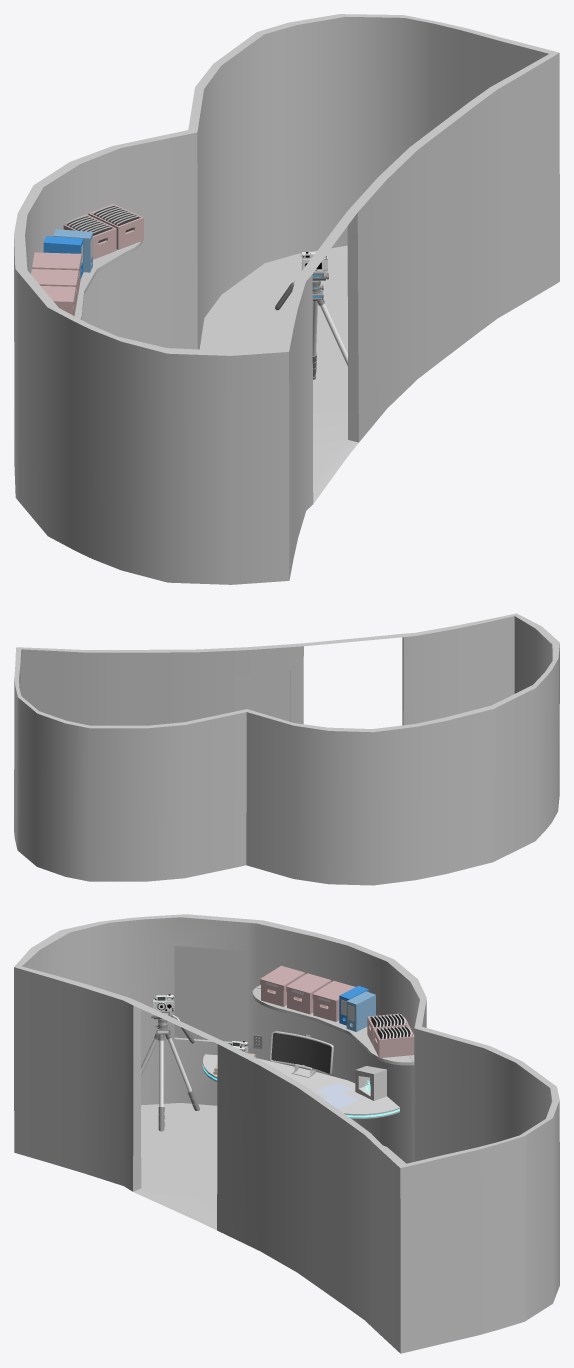
Rendered from labo_photo_assets.fbx.
The picture shows the model from 3 angles, top to bottom: view 1: azimuth 30°, elevation 25°; view 2: azimuth 150°, elevation 25°; view 3: azimuth 270°, elevation 25°; orthographic projection. The views are drawn at different scales.
Parts seen in each view (by area): view 1: labo_photo, boite_archive_couv.002, Ecran_Interaction.001, trepied, Ecran_Interaction.003, labo_photo.001, Cube.010; view 2: labo_photo, blue_print02; view 3: labo_photo, blue_print01, boite_archive_couv.002, labo_chimie.002, Ecran_Interaction, trepied.001, labo_photo.001, Ecran_Interaction.001, Cube.012, Cube.009, Ecran_Interaction.003.
Boxes of the visible parts, <box> form: labo_photo: <box>14,14,559,584</box>; boite_archive_couv.002: <box>31,252,81,315</box>; Ecran_Interaction.001: <box>88,203,143,249</box>; trepied: <box>275,272,347,379</box>; Ecran_Interaction.003: <box>63,214,116,259</box>; labo_photo.001: <box>74,241,142,319</box>; Cube.010: <box>43,236,83,278</box>; labo_photo: <box>14,613,559,885</box>; blue_print02: <box>235,674,285,720</box>; labo_photo: <box>14,914,559,1353</box>; blue_print01: <box>179,949,240,1035</box>; boite_archive_couv.002: <box>260,965,355,1021</box>; labo_chimie.002: <box>202,1054,399,1118</box>; Ecran_Interaction: <box>270,1031,333,1074</box>; trepied.001: <box>141,1011,199,1131</box>; labo_photo.001: <box>252,985,414,1065</box>; Ecran_Interaction.001: <box>373,1025,414,1057</box>; Cube.012: <box>355,1066,386,1100</box>; Cube.009: <box>346,991,375,1031</box>; Ecran_Interaction.003: <box>367,1013,408,1045</box>.
Size of the model in its own units: 883 by 801 by 311.
